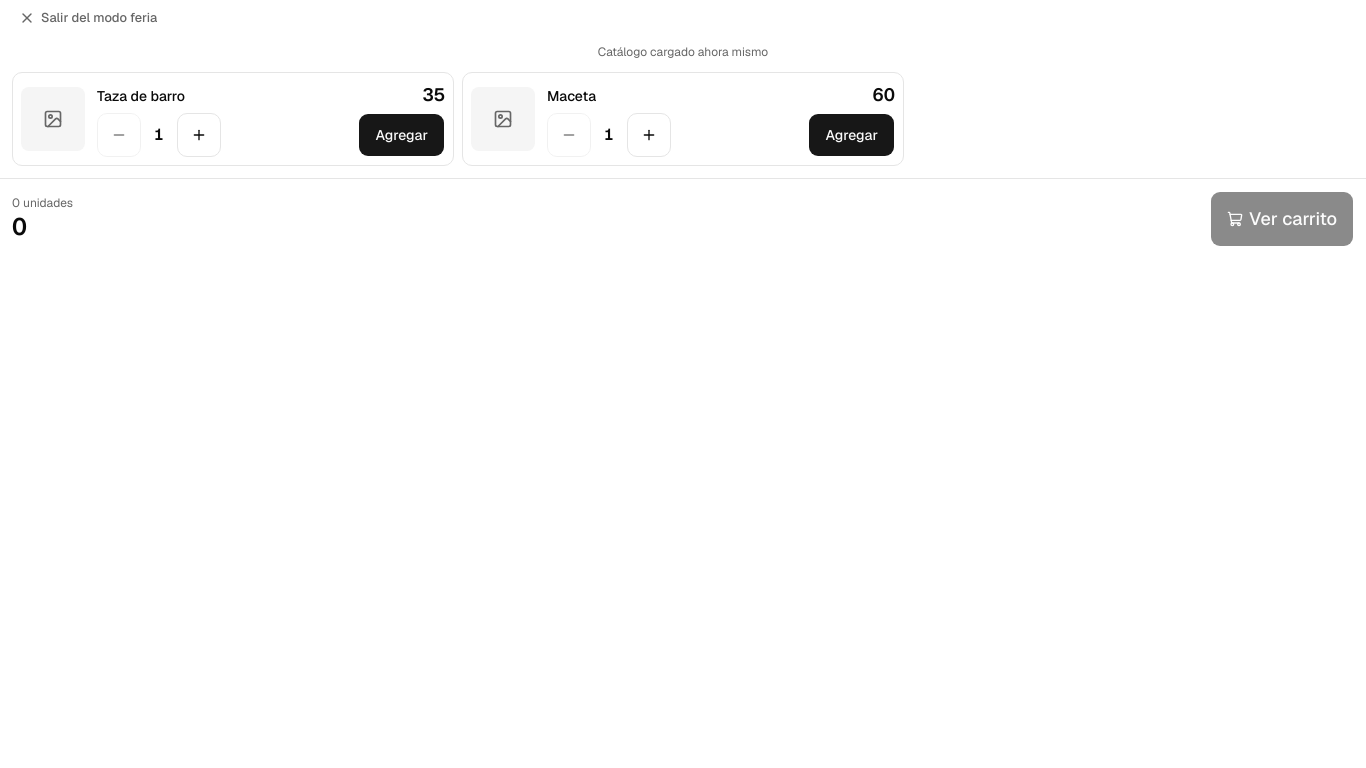
FairScreen › tras registrar, todos los selectores vuelven a 1
expect the number of elements with test id "fair-product" is 2: met, box [12, 72, 454, 166]; [462, 72, 904, 166]
Click the button named "Aumentar cantidad de Maceta" at (649, 135), box [627, 113, 671, 157]
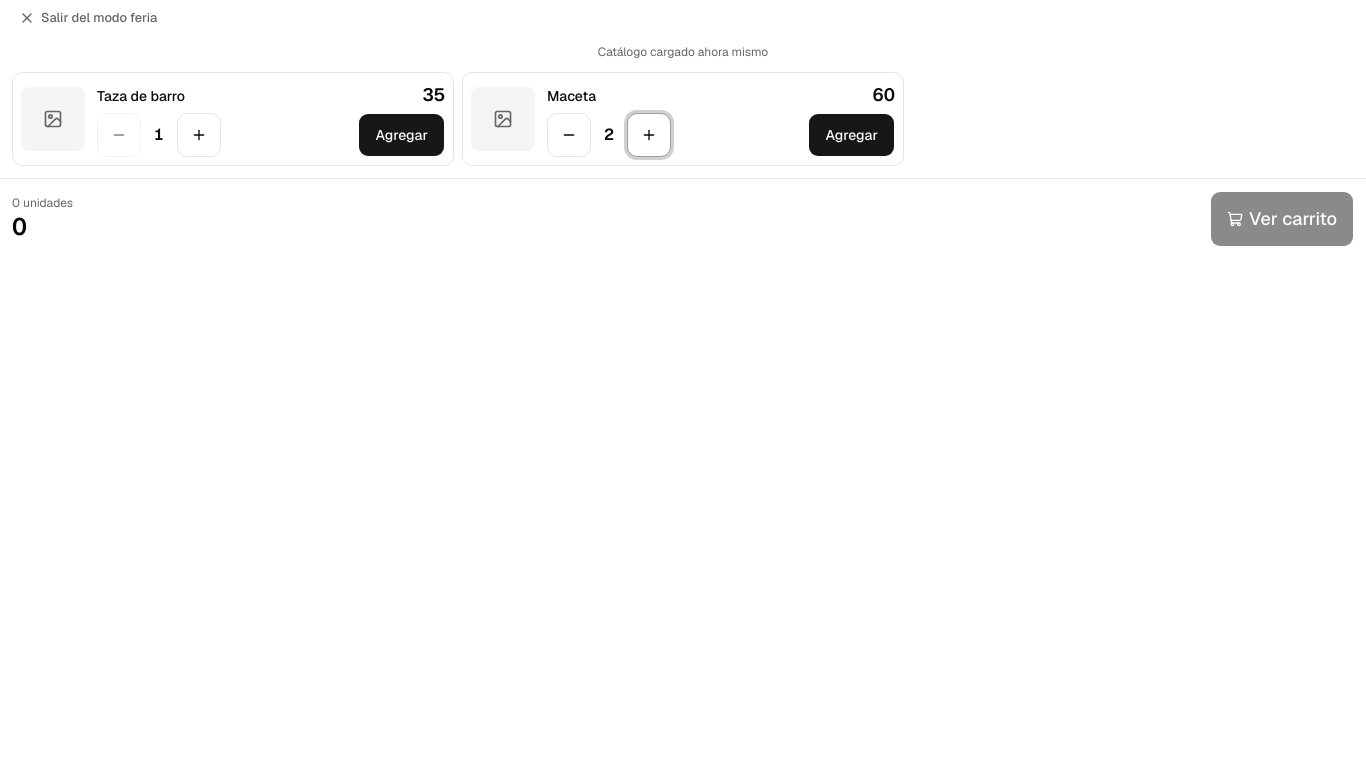
Click the button named "Aumentar cantidad de Maceta" at (649, 135), box [627, 113, 671, 157]
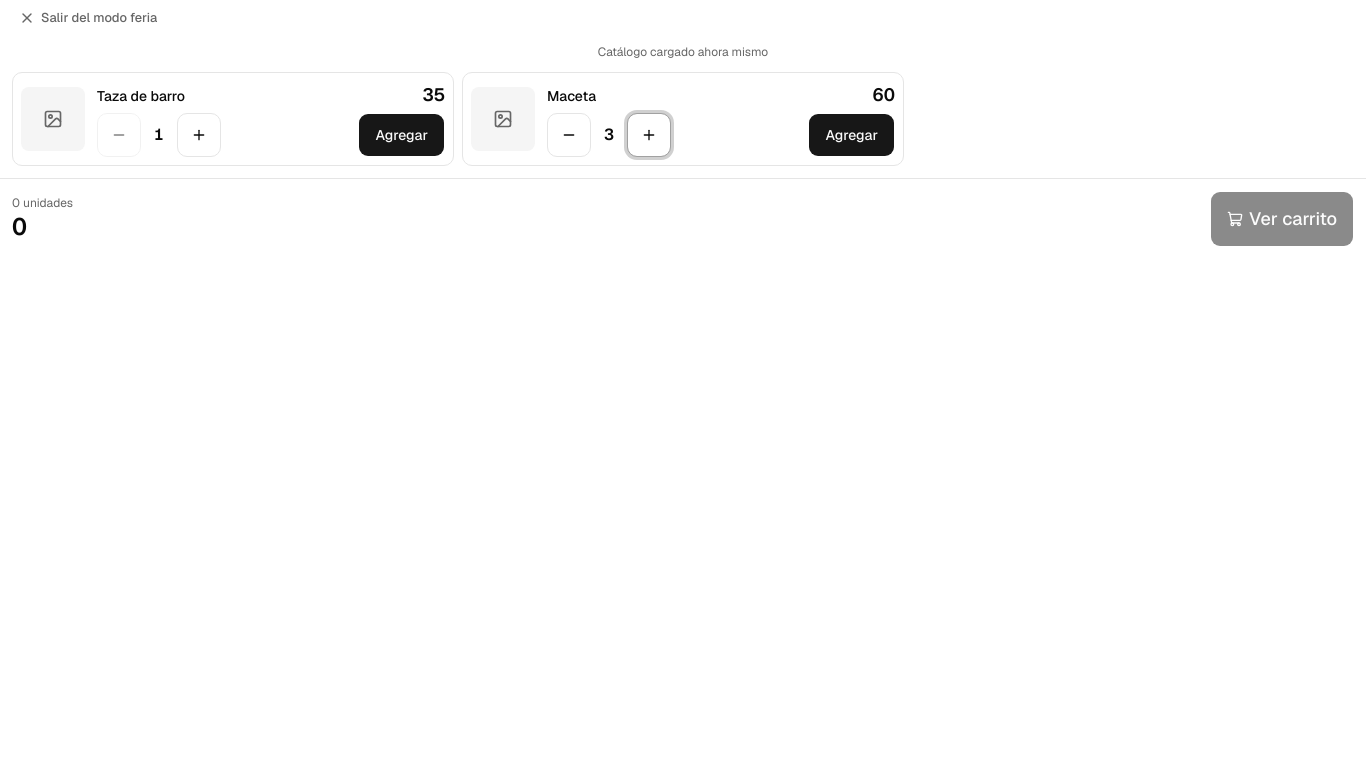
Click the button named "Aumentar cantidad de Maceta" at (649, 135), box [627, 113, 671, 157]
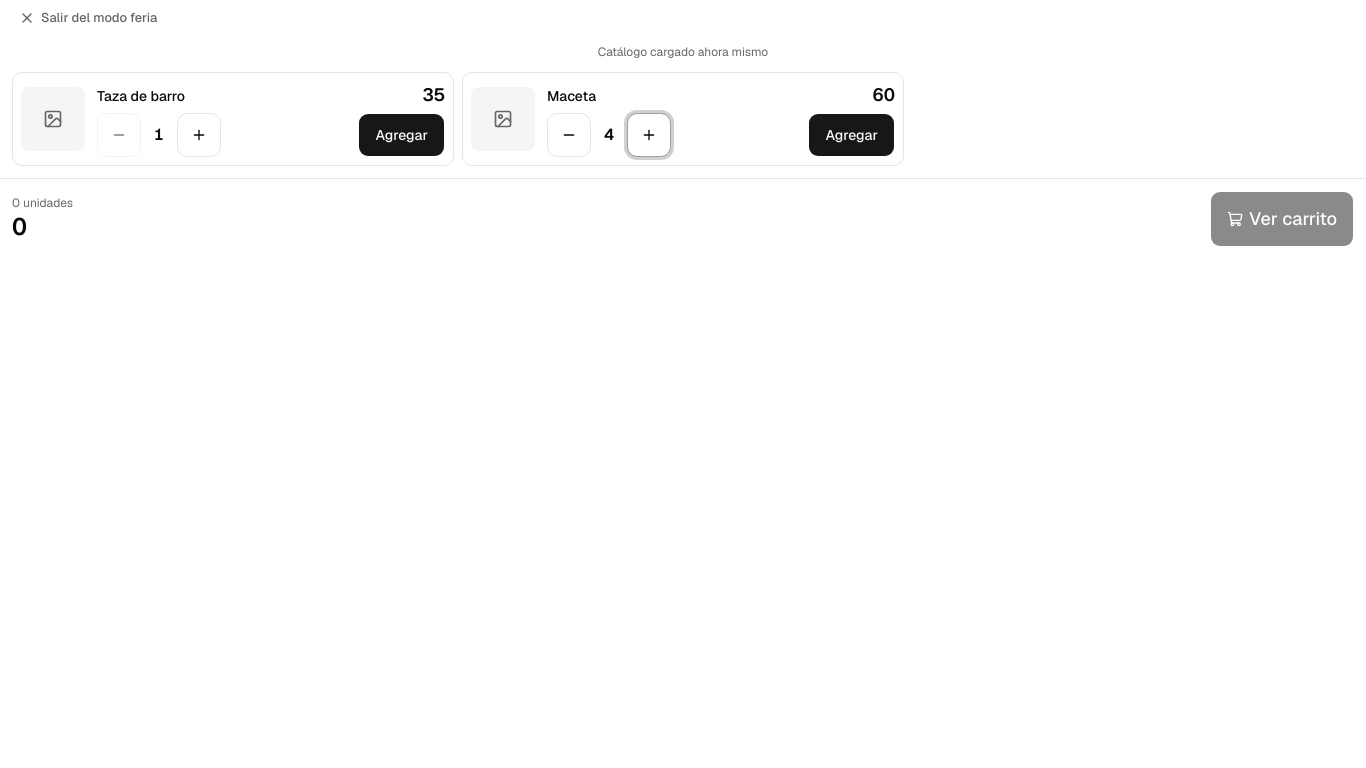
expect the text with test id "fair-quantity" reads "4": met, box [604, 124, 614, 145]
Click the button "Agregar" below "35" at (402, 135), box [358, 113, 445, 157]
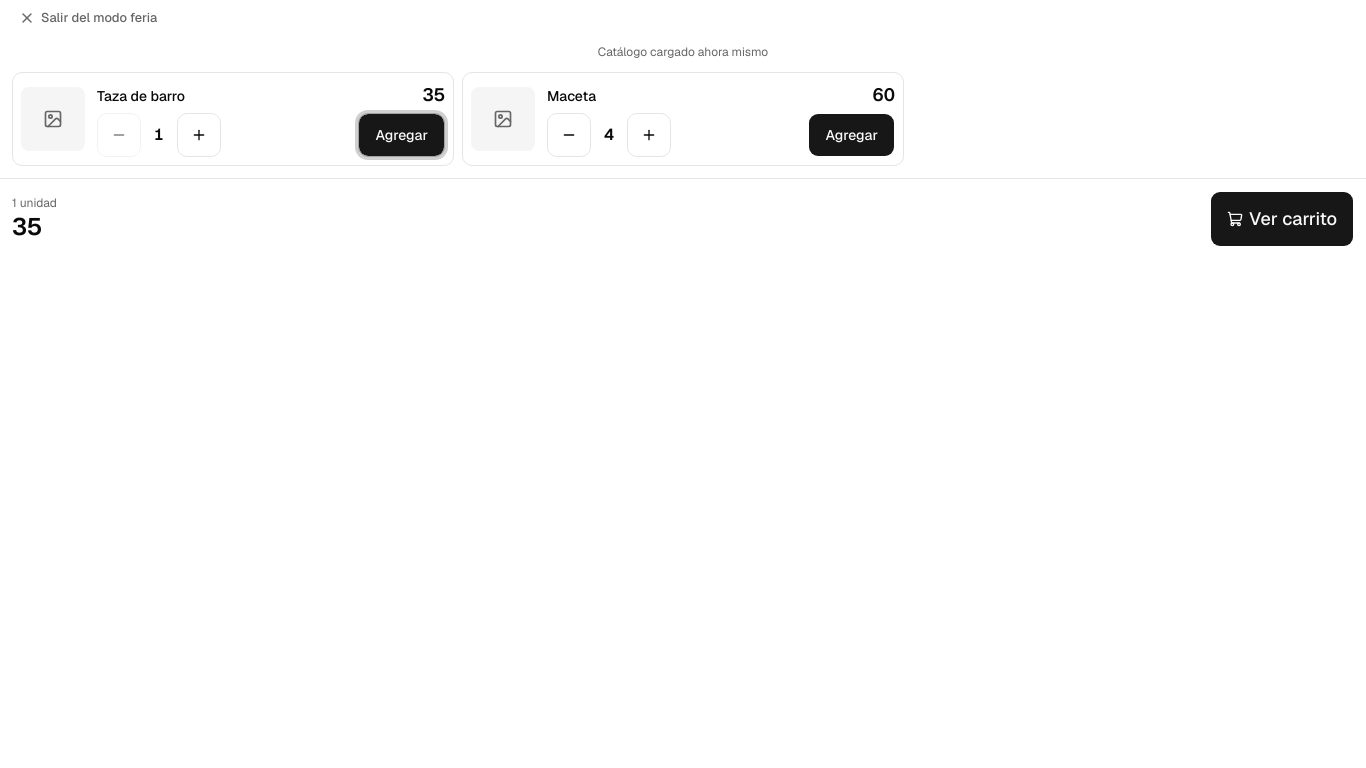
Click the button "Ver carrito" at (1282, 219), box [1210, 191, 1354, 247]
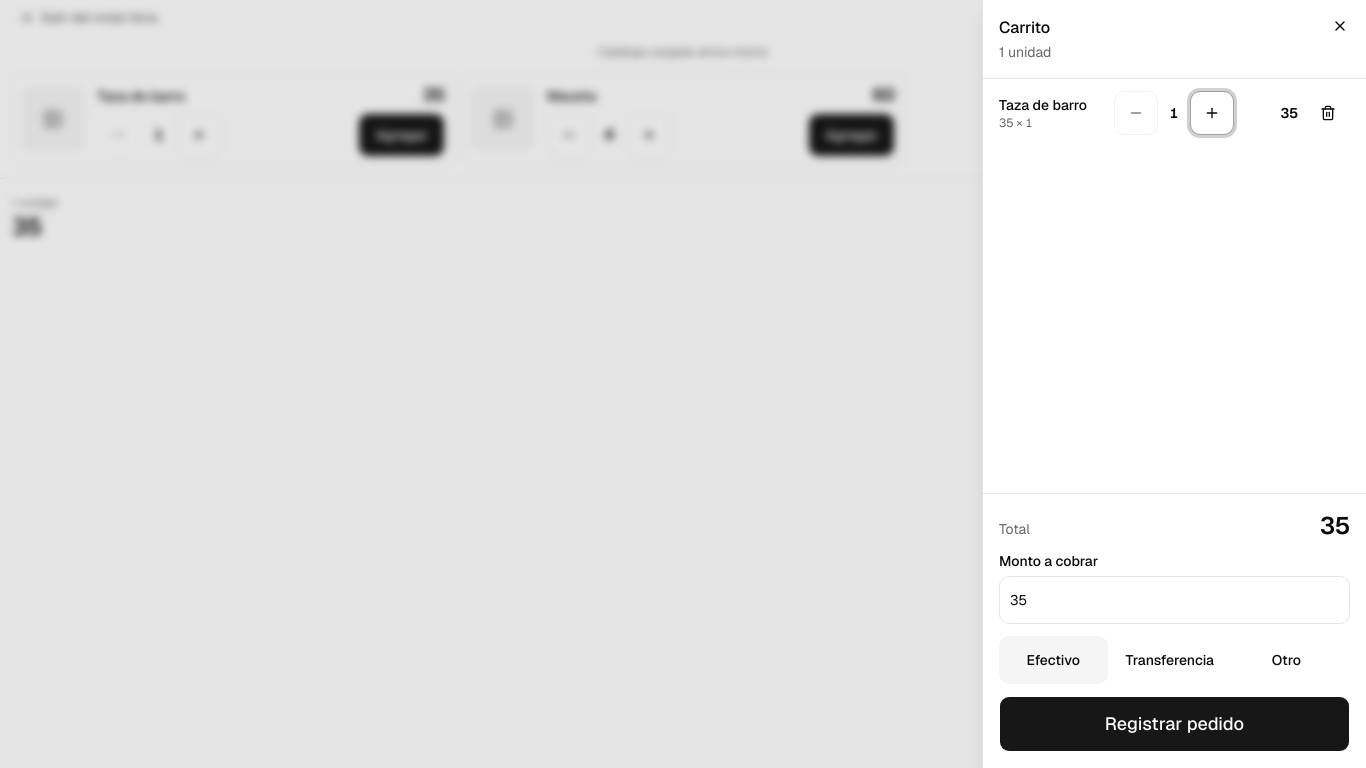
Click the button "Registrar pedido" at (1174, 724), box [999, 696, 1350, 752]
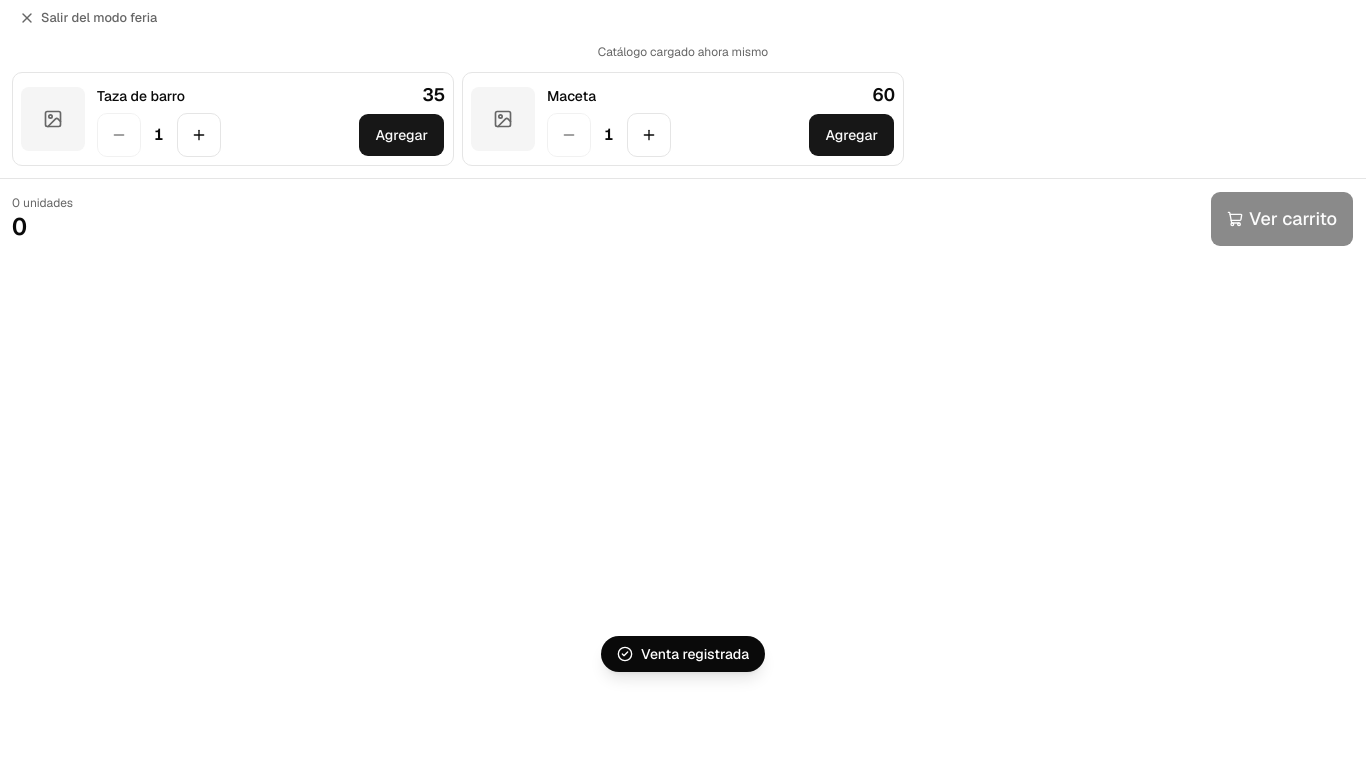
expect the text with test id "fair-quantity" below "35" reads "1": met, box [154, 124, 164, 145]
expect the text with test id "fair-quantity" below "60" reads "1": met, box [604, 124, 614, 145]
